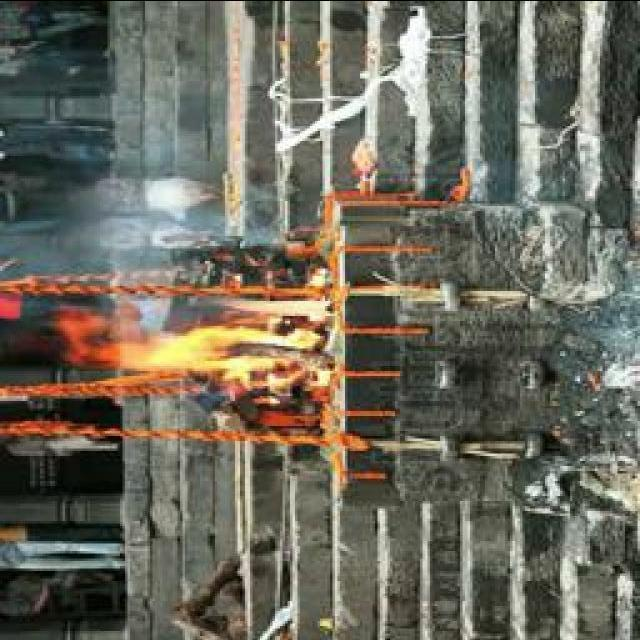Fire: (94, 291, 330, 391)
